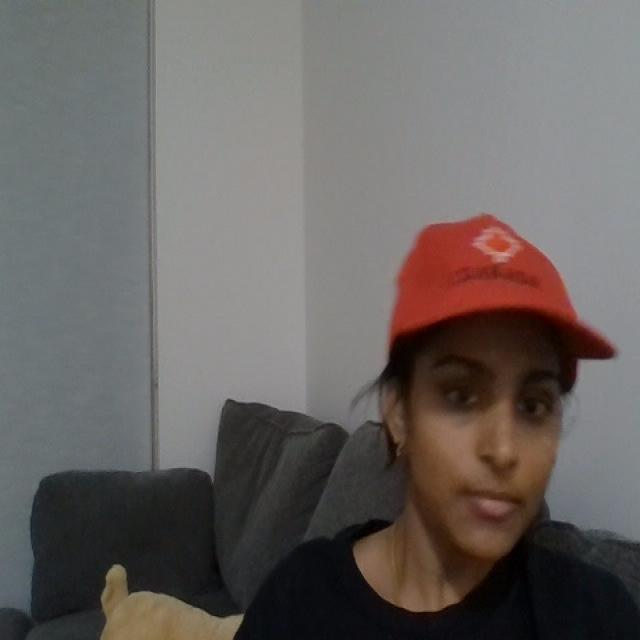Hat: (357, 138, 628, 366)
